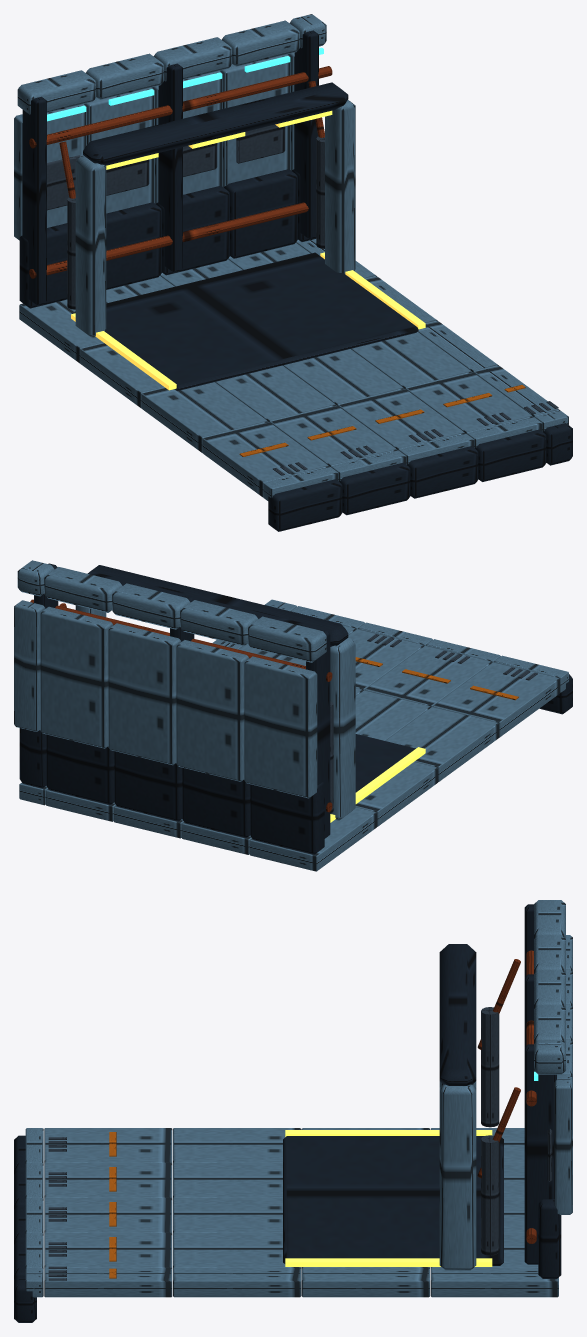
File: colossal-hangar-baia.glb
The picture shows the model from 3 angles, top to bottom: view 1: azimuth 30°, elevation 25°; view 2: azimuth 150°, elevation 25°; view 3: azimuth 270°, elevation 25°; orthographic projection. The views are drawn at different scales.
Parts seen in each view (by area): view 1: Chapa modular do piso.035, Longarina frontal.007, Placa de inspeção.007, Tubulação longitudinal.002, Trilho guia do berço, Luz embutida.007, Sinalização do corredor.007; view 2: Chapa modular do piso.035, Longarina frontal.007, Tubulação longitudinal.002, Placa de inspeção.007, Trilho guia do berço, Sinalização do corredor.007; view 3: Chapa modular do piso.035, Longarina frontal.007, Placa de inspeção.007, Trilho guia do berço, Tubulação longitudinal.002, Sinalização do corredor.007.
Part boxes in pixels (x1,y1,x2,y2): Chapa modular do piso.035: (14,14,568,500); Longarina frontal.007: (19,30,572,531); Placa de inspeção.007: (47,124,558,475); Tubulação longitudinal.002: (29,66,332,278); Trilho guia do berço: (71,110,425,390); Luz embutida.007: (47,47,323,121); Sinalização do corredor.007: (239,385,525,456); Chapa modular do piso.035: (14,560,568,871); Longarina frontal.007: (19,563,572,854); Tubulação longitudinal.002: (30,599,332,812); Placa de inspeção.007: (330,634,537,813); Trilho guia do berço: (330,747,425,822); Sinalização do corredor.007: (355,657,518,700); Chapa modular do piso.035: (25,900,572,1297); Longarina frontal.007: (14,904,561,1322); Placa de inspeção.007: (48,1007,552,1280); Trilho guia do berço: (285,1130,492,1266); Tubulação longitudinal.002: (477,950,536,1243); Sinalização do corredor.007: (109,1132,116,1278).
Bounding box in the file's own units: 79 × 65.5 × 122.
Materials: 7 (5 with a texture image).
